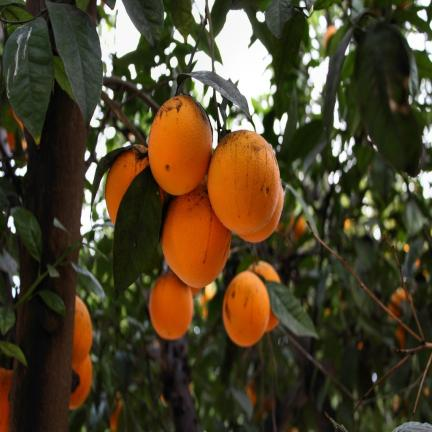oranges: (106, 96, 283, 339), (106, 96, 230, 339), (140, 131, 283, 339), (148, 95, 283, 287), (106, 95, 283, 241), (149, 97, 283, 288), (162, 131, 283, 287), (106, 95, 212, 223), (96, 148, 165, 294), (208, 130, 280, 235), (208, 131, 280, 235), (162, 182, 231, 287), (149, 95, 212, 194), (223, 260, 280, 346), (223, 271, 270, 347), (223, 271, 270, 346), (197, 303, 310, 332), (106, 146, 148, 223), (106, 147, 148, 223), (149, 272, 193, 340), (239, 185, 283, 242), (70, 296, 92, 409), (70, 297, 92, 409), (73, 296, 92, 366), (70, 355, 92, 409), (7, 109, 26, 152), (0, 368, 12, 431), (248, 260, 280, 283), (198, 283, 217, 318), (388, 288, 408, 317), (305, 262, 325, 290), (191, 283, 216, 305), (286, 215, 307, 241), (254, 396, 275, 419), (254, 396, 275, 418), (110, 393, 122, 431), (8, 108, 24, 132), (363, 0, 385, 17), (388, 293, 402, 316), (323, 25, 337, 48), (246, 380, 257, 407), (295, 216, 307, 239), (266, 310, 278, 332), (204, 284, 217, 302), (396, 326, 405, 349), (263, 397, 275, 412), (200, 298, 208, 319), (7, 131, 15, 151), (396, 0, 411, 9), (276, 221, 284, 233), (344, 218, 351, 231), (191, 287, 202, 295), (357, 340, 364, 351), (403, 243, 410, 253), (160, 393, 166, 404), (415, 258, 421, 269), (424, 387, 430, 396), (290, 427, 298, 431), (101, 0, 105, 5), (305, 286, 309, 290), (389, 316, 393, 320)
